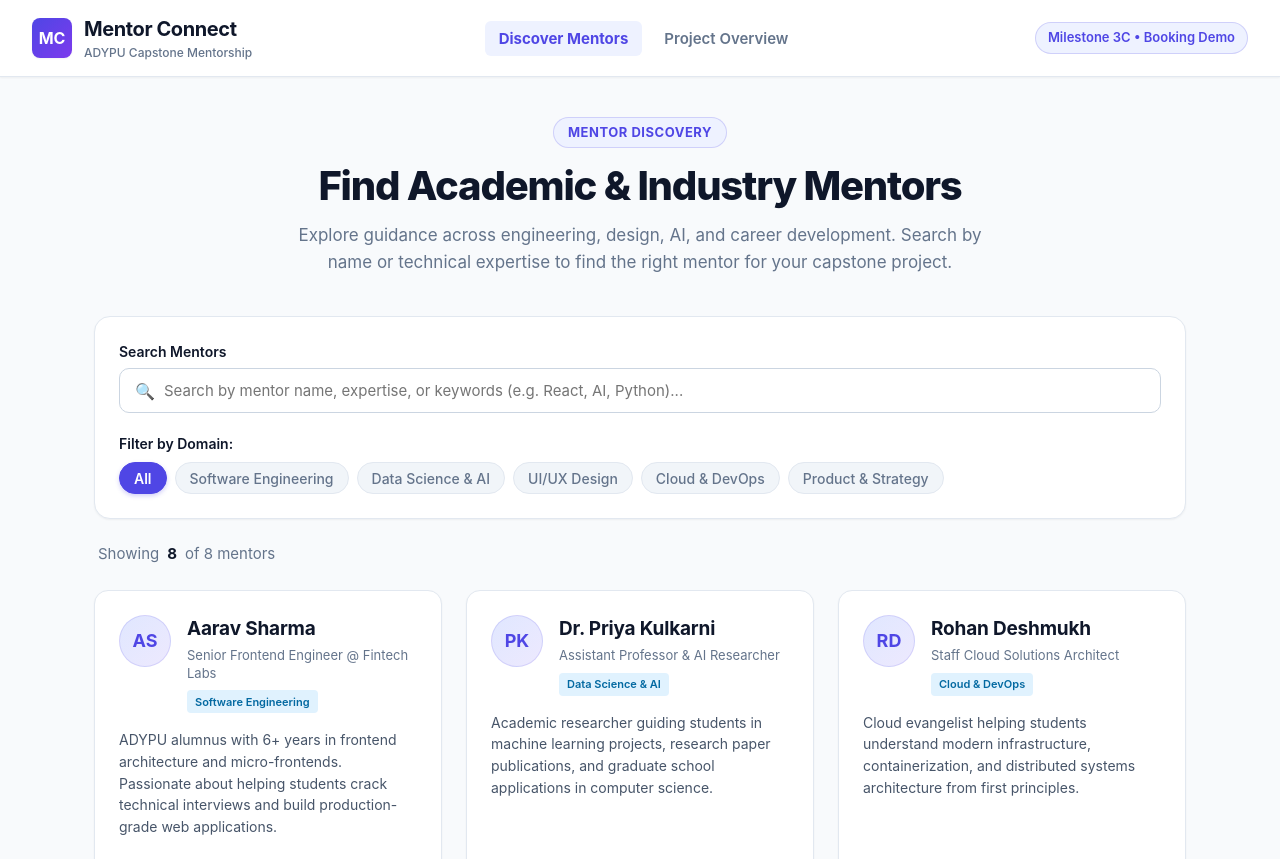
Scenario: Category Filtering › filters mentors by selected domain category pill
Click UI/UX Design category pill
Click the button "UI/UX Design": click(573, 478) left=513, top=462, right=633, bottom=494
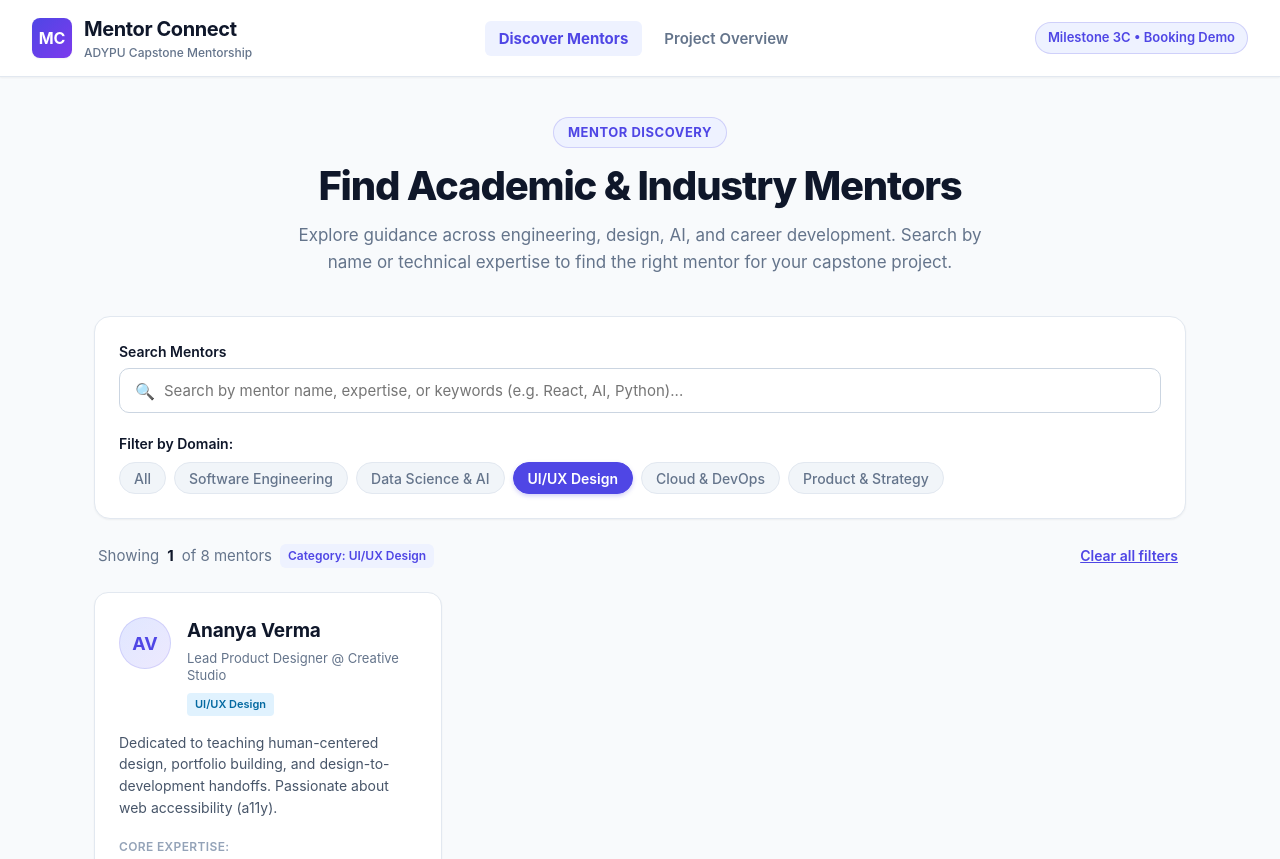
Expected: the heading "Ananya Verma" is shown, left=187, top=619, right=321, bottom=642
Result: the heading "Aarav Sharma" is gone
Result: the element with class "results-count" shows "Showing 1 of 8 mentors" at left=98, top=544, right=434, bottom=568
